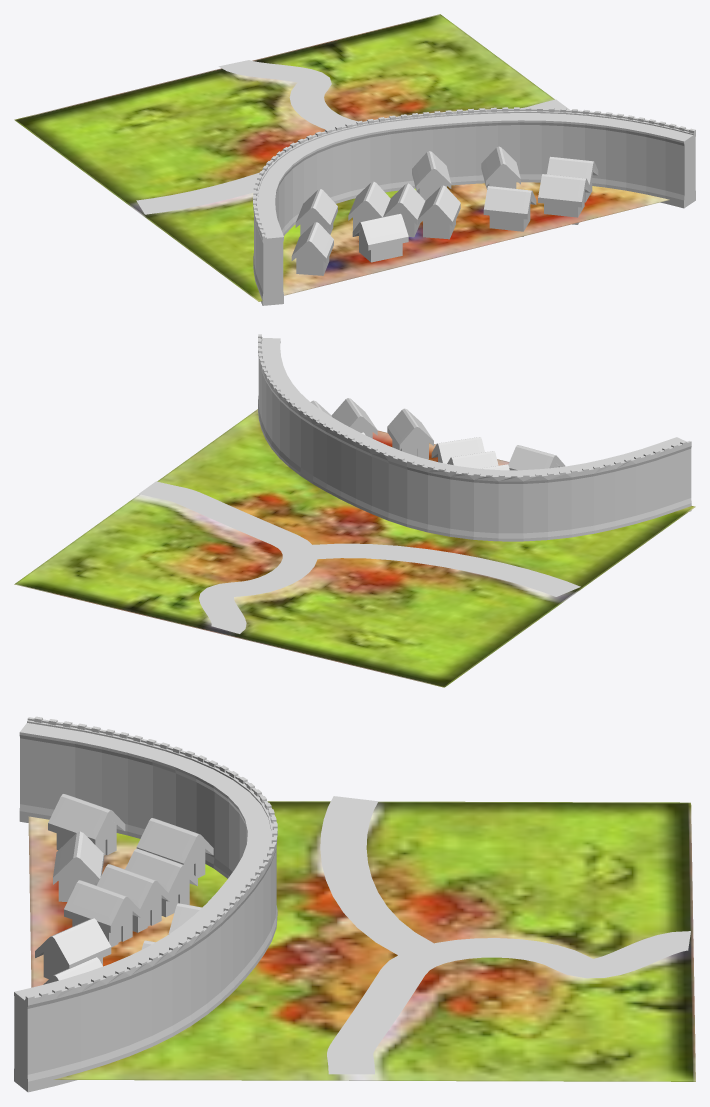
Rendered from tile8.fbx.
The picture shows the model from 3 angles, top to bottom: view 1: azimuth 30°, elevation 25°; view 2: azimuth 150°, elevation 25°; view 3: azimuth 270°, elevation 25°; orthographic projection. The views are drawn at different scales.
Visible parts, largest first — view 1: tile8; view 2: tile8; view 3: tile8.
Part boxes in pixels (x1,y1,x2,y2): tile8: (14, 14, 695, 305); tile8: (14, 334, 695, 687); tile8: (14, 716, 695, 1092).
Size of the model in its own units: 103 by 16.54 by 105.
